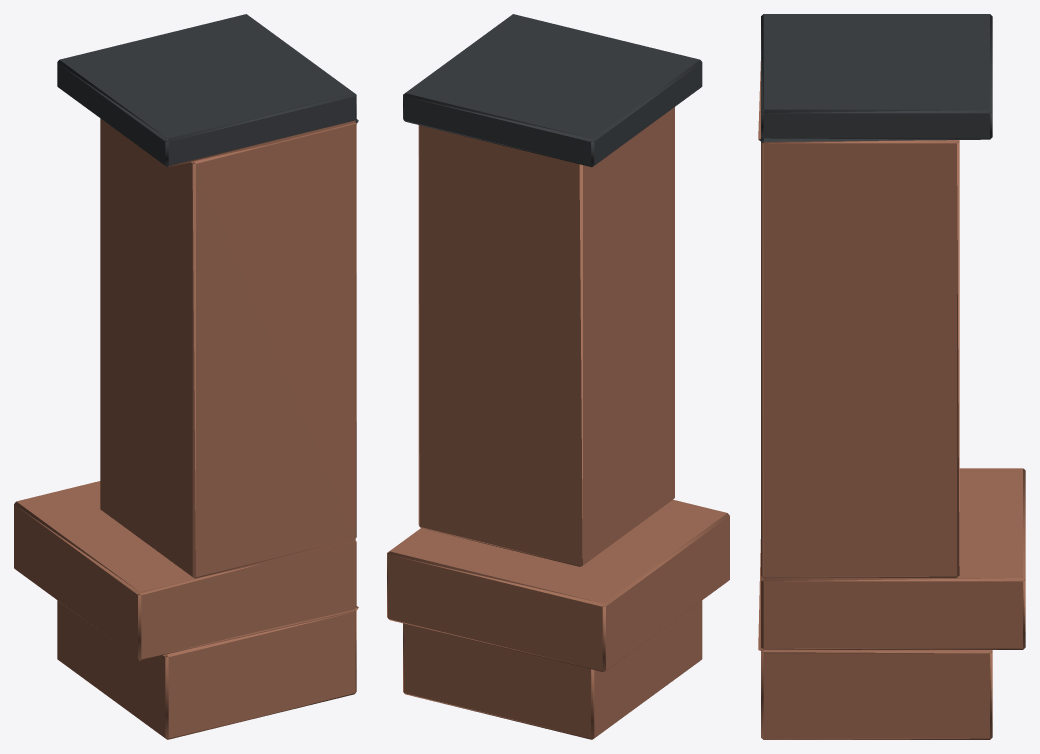
The model's file is SM_VB_FacB_CornerCornice.fbx.
The picture shows the model from 3 angles, left to right: view 1: azimuth 30°, elevation 25°; view 2: azimuth 150°, elevation 25°; view 3: azimuth 270°, elevation 25°; orthographic projection. The views are drawn at different scales.
Parts seen in each view (by area): view 1: SM_VB_FacB_CornerCornice; view 2: SM_VB_FacB_CornerCornice; view 3: SM_VB_FacB_CornerCornice.
Part boxes in pixels (bbox=[...]): SM_VB_FacB_CornerCornice: bbox=[14, 14, 358, 739]; SM_VB_FacB_CornerCornice: bbox=[387, 14, 729, 739]; SM_VB_FacB_CornerCornice: bbox=[758, 14, 1025, 739].
Bounding box in the file's own units: 0.404 × 1.05 × 0.404.
